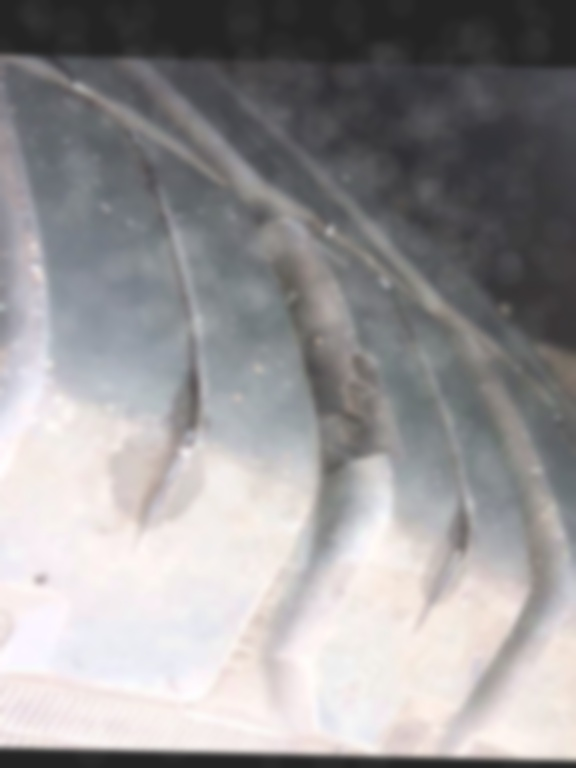temoin:90: (299, 327, 411, 481)
